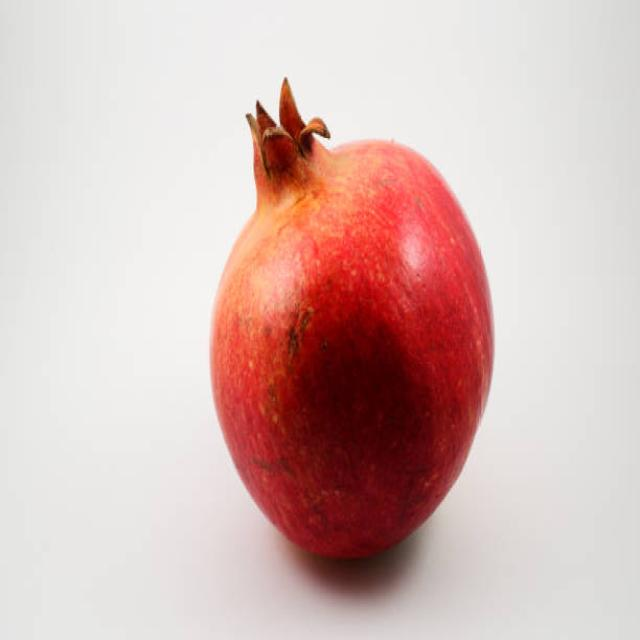overripe: (205, 70, 500, 564)
